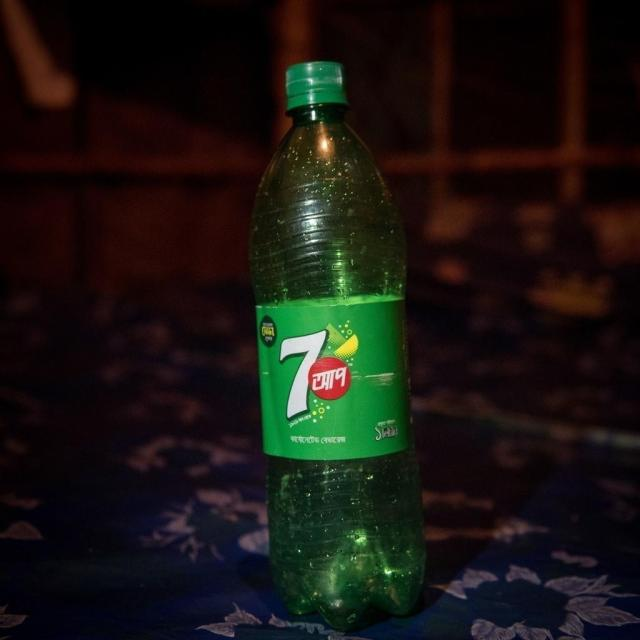plastic bottle: (242, 55, 433, 626)
